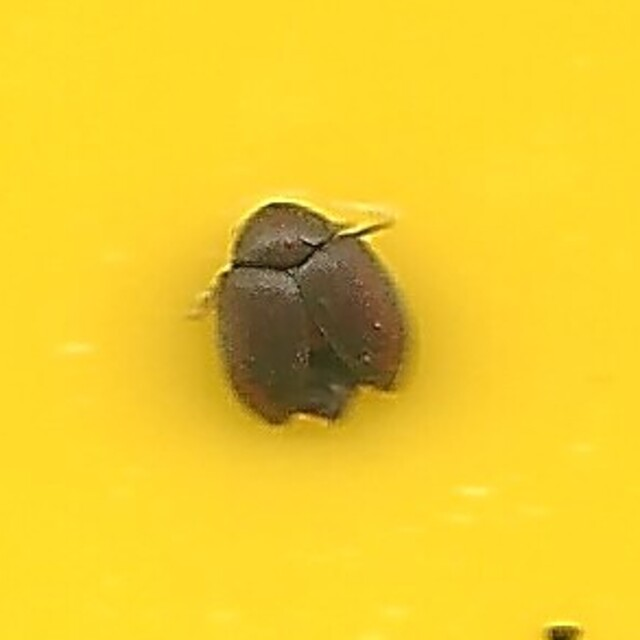Coleoptera: (218, 203, 422, 437)
